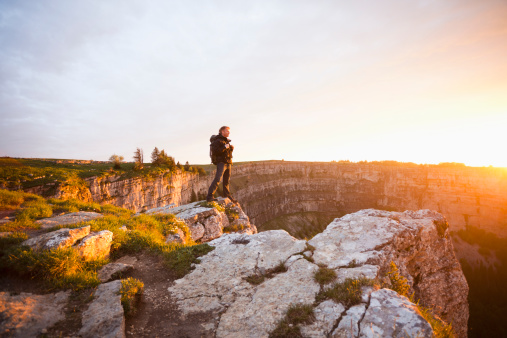em pe: (195, 124, 237, 215)
